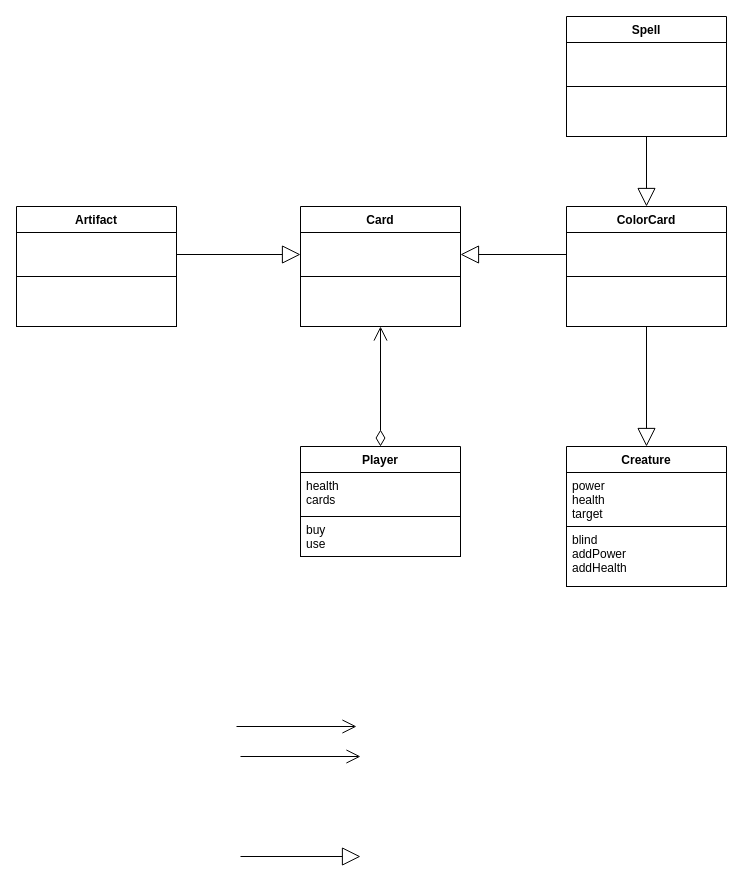
This 743x881 diagram has some shape labels left out. Here are the shapes that lost their labels. From the top down, the centre of each, then its label:
(x=96, y=254): cost
(x=380, y=254): image description
(x=646, y=254): color cost
(x=646, y=301): colorName
